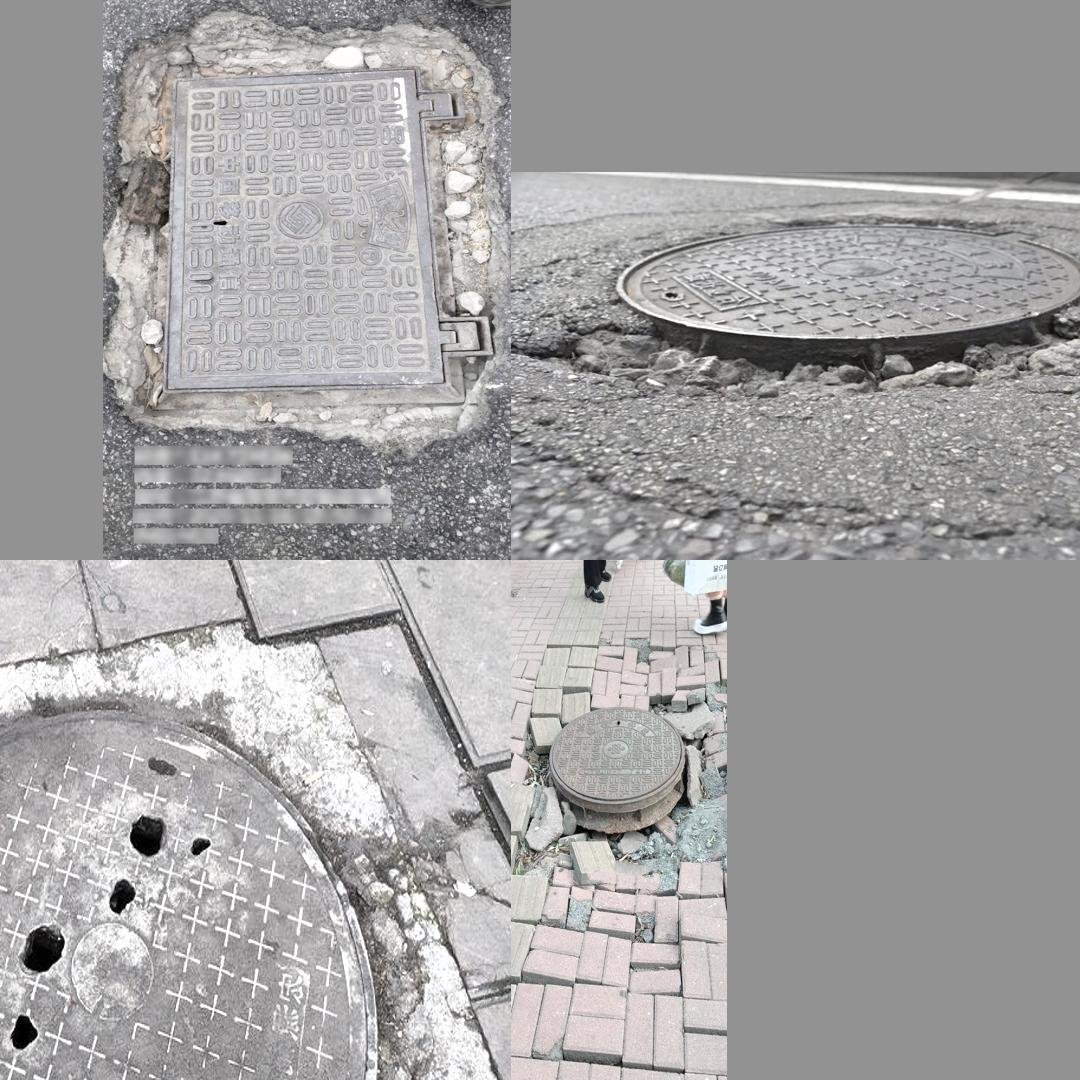circle: (0, 613, 489, 1080), (124, 40, 497, 431), (521, 201, 1080, 437), (515, 652, 724, 950)
